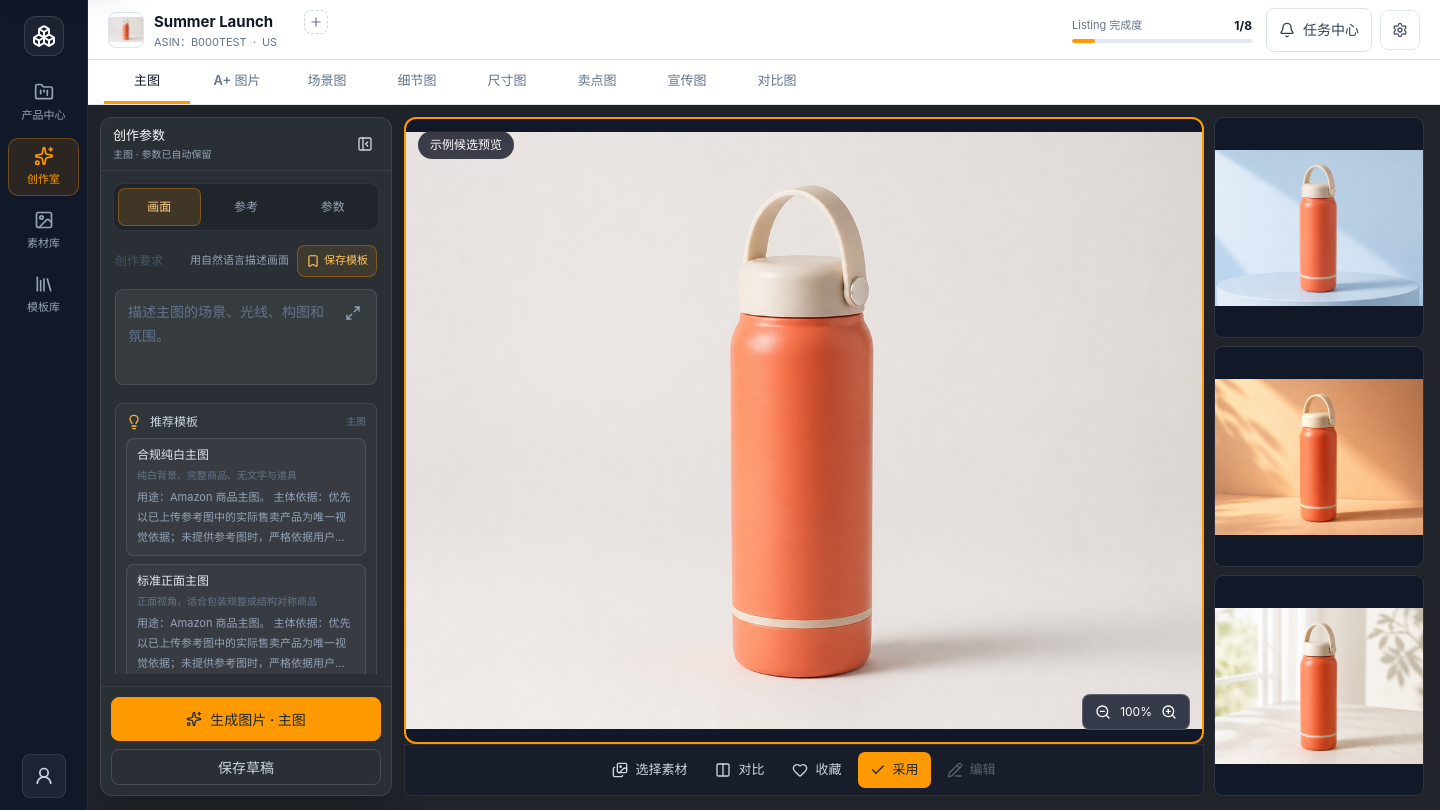
Test: backend history asset source › keeps unavailable asset feedback non-leaky when detail loading fails
Click the button "任务中心": (1319, 30) [1266, 8, 1372, 52]
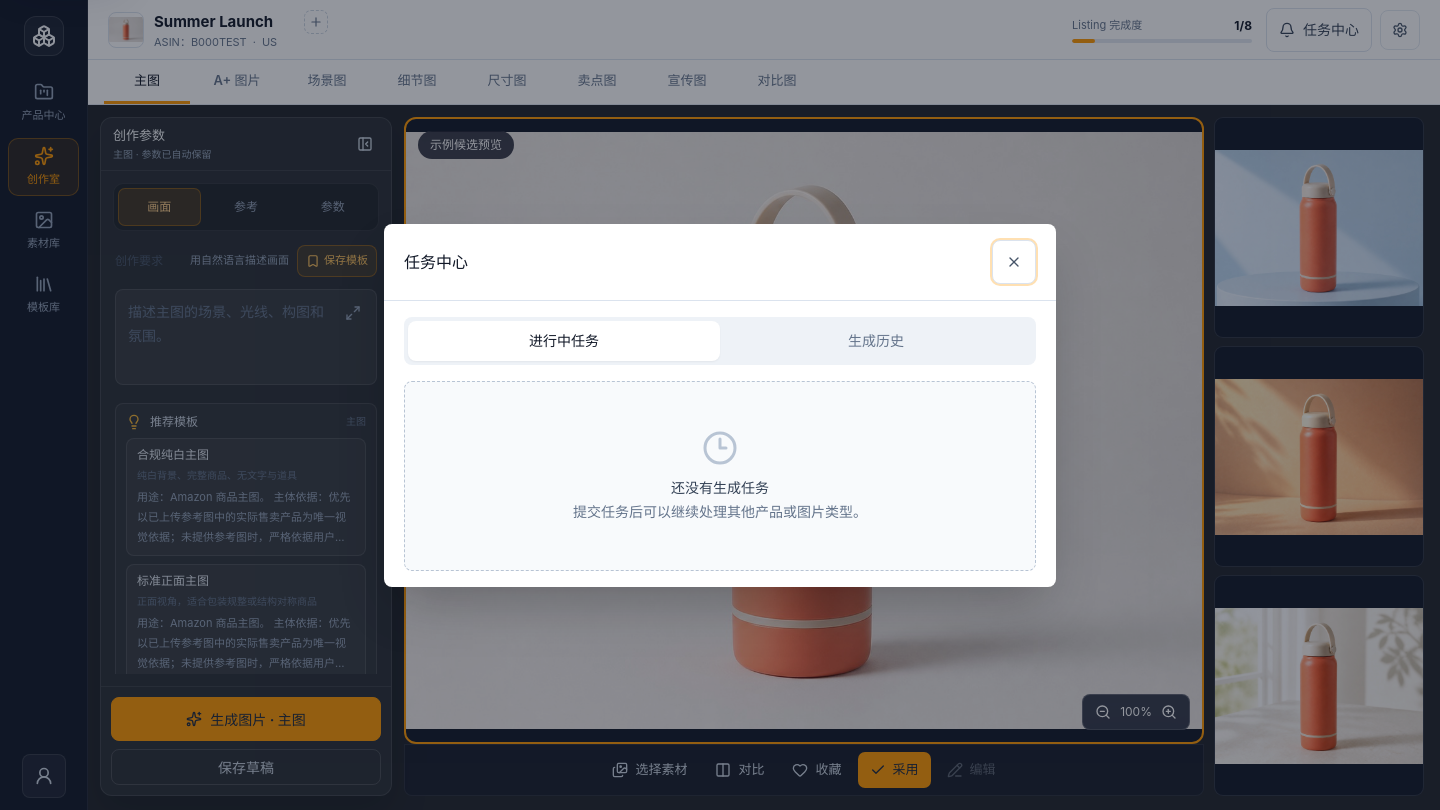
Click the tab "生成历史": (876, 340) [720, 320, 1032, 360]
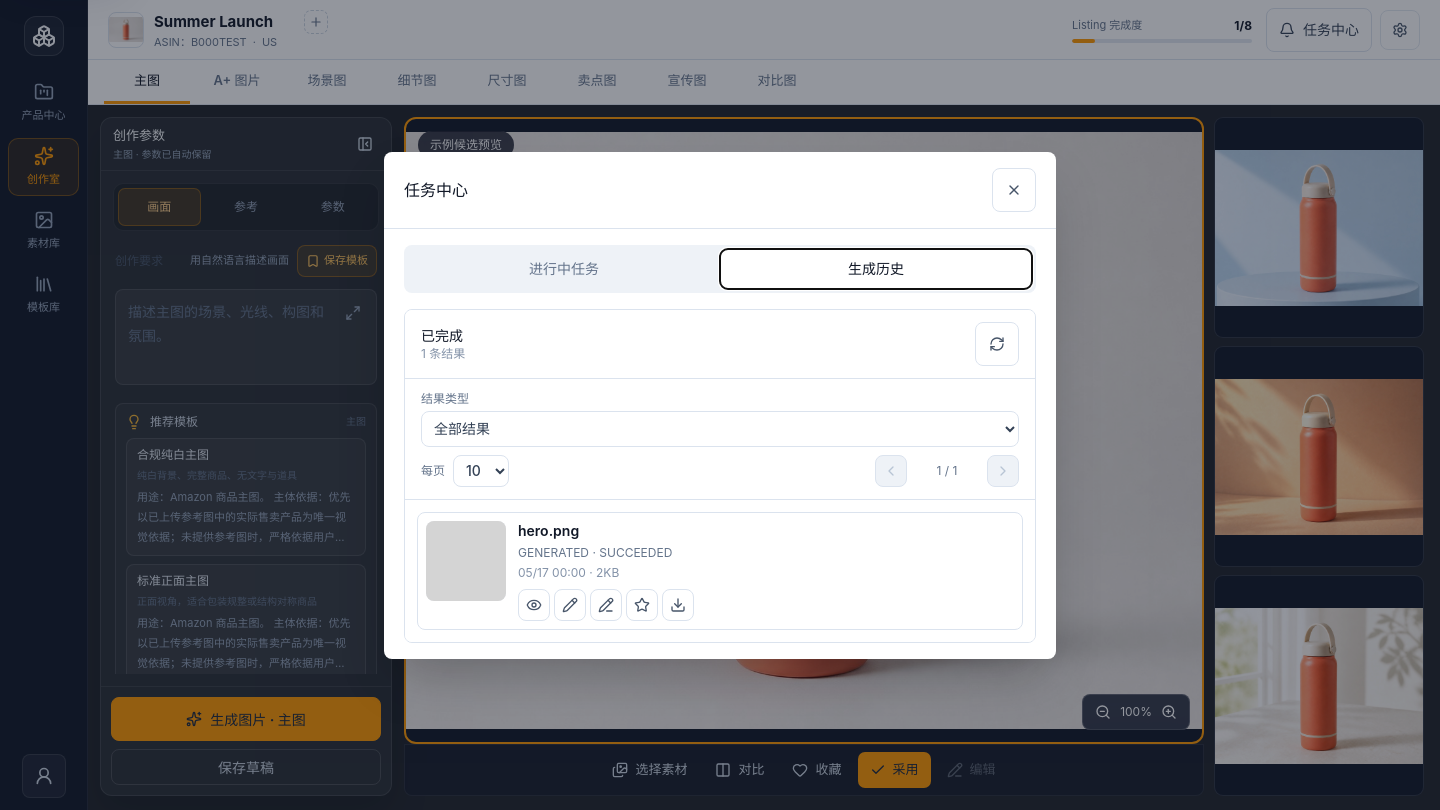
Check: the element named "图片生成历史" is shown, box [404, 308, 1036, 642]
Click the button named "查看结果 hero.png": (534, 604) [518, 588, 550, 620]
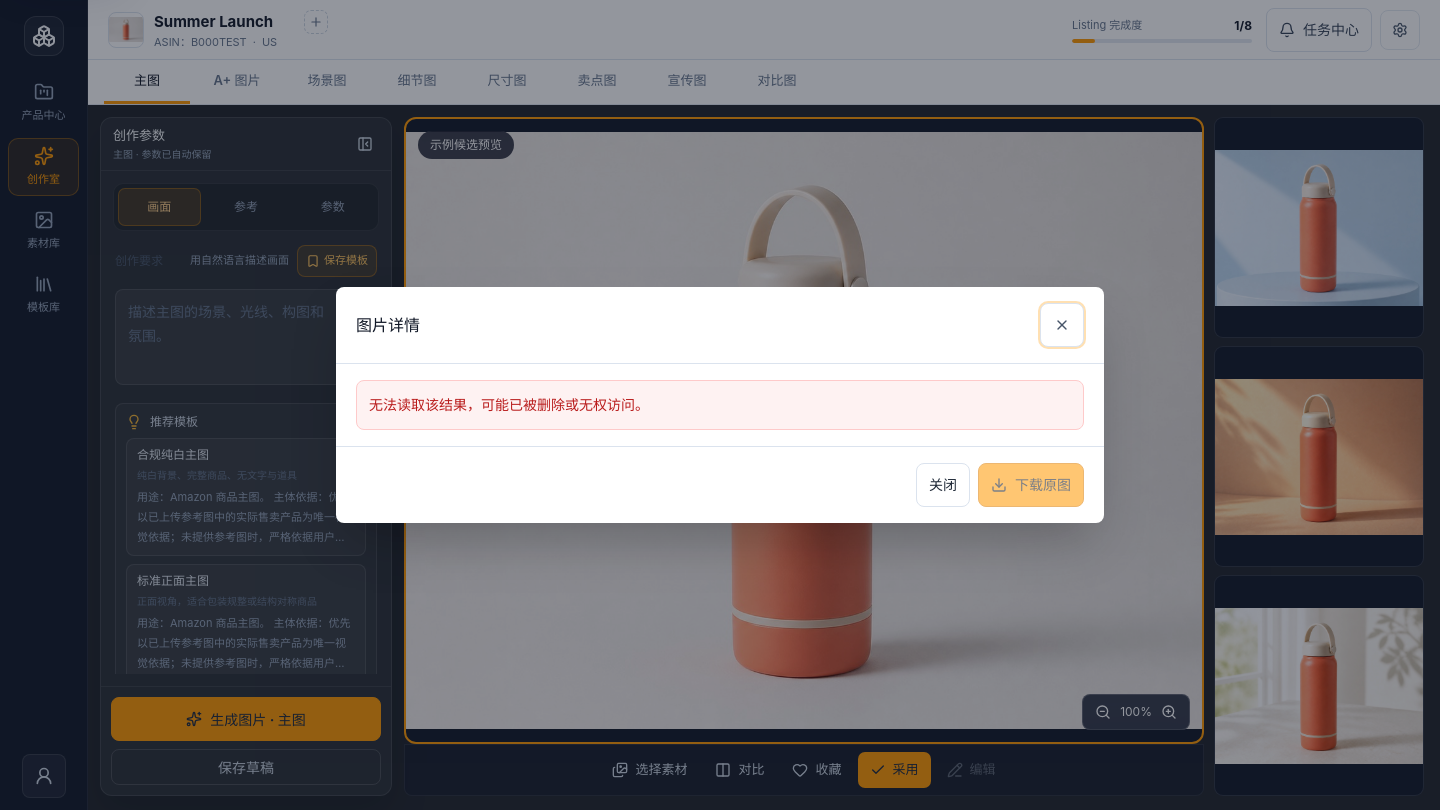
Check: the text "无法读取该结果，可能已被删除或无权访问。" is shown, box [356, 380, 1084, 430]
